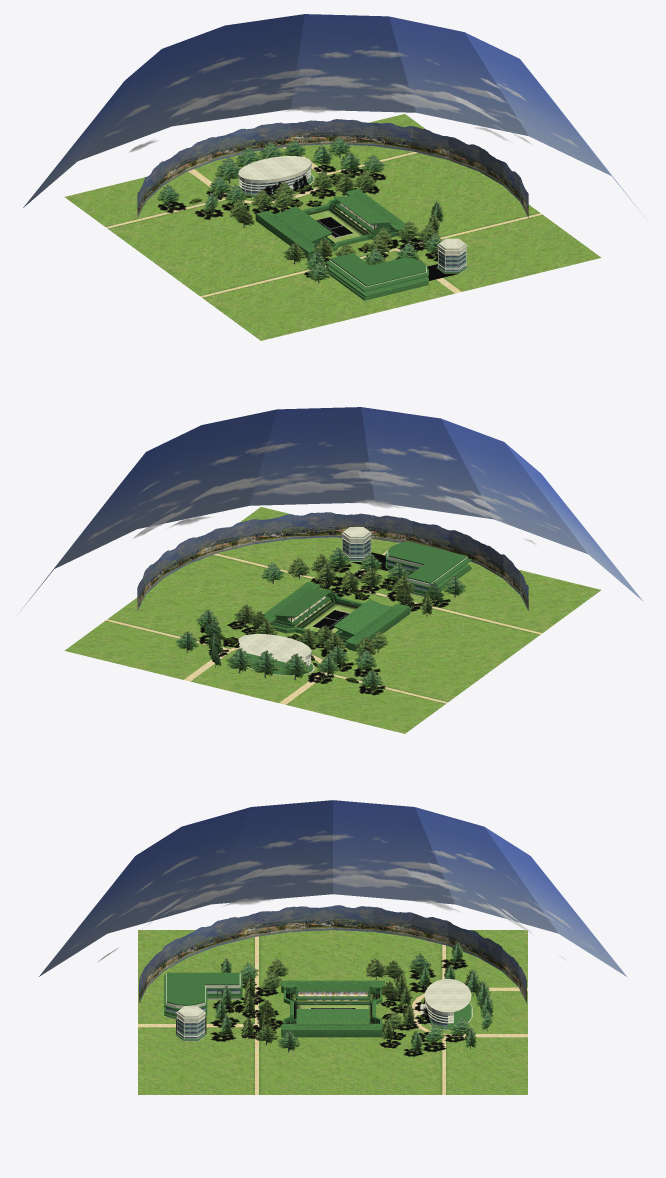
Rendered from tns_Field_a.glb.
The picture shows the model from 3 angles, top to bottom: view 1: azimuth 30°, elevation 25°; view 2: azimuth 150°, elevation 25°; view 3: azimuth 270°, elevation 25°; orthographic projection.
Visible parts, largest first — view 1: polygon7, polygon5, polygon0, polygon10, polygon355, polygon353, polygon3, polygon4, polygon38, polygon9, polygon6, polygon12; view 2: polygon7, polygon5, polygon0, polygon10, polygon355, polygon353, polygon3, polygon4, polygon38, polygon9, polygon6, polygon12; view 3: polygon7, polygon5, polygon0, polygon10, polygon3, polygon355, polygon353, polygon38, polygon4, polygon9, polygon6, polygon12.
Boxes of the visible parts, x1,y1,x2,y2 form: polygon7: (65, 114, 601, 340); polygon5: (23, 14, 646, 219); polygon0: (137, 119, 528, 217); polygon10: (238, 175, 467, 300); polygon355: (157, 136, 443, 283); polygon353: (229, 171, 440, 263); polygon3: (129, 76, 532, 151); polygon4: (63, 46, 578, 172); polygon38: (157, 164, 458, 280); polygon9: (238, 156, 467, 287); polygon6: (106, 147, 542, 297); polygon12: (242, 171, 465, 279); polygon7: (64, 507, 600, 733); polygon5: (19, 407, 642, 612); polygon0: (137, 512, 528, 610); polygon10: (244, 541, 471, 675); polygon355: (176, 547, 465, 690); polygon353: (234, 554, 432, 656); polygon3: (133, 470, 536, 544); polygon4: (87, 441, 602, 565); polygon38: (199, 552, 450, 695); polygon9: (238, 527, 467, 675); polygon6: (106, 542, 542, 704); polygon12: (299, 539, 427, 668); polygon7: (138, 930, 527, 1094); polygon5: (39, 800, 626, 976); polygon0: (139, 905, 526, 1003); polygon10: (164, 972, 471, 1040); polygon3: (98, 863, 567, 961); polygon355: (215, 941, 493, 1052); polygon353: (242, 958, 414, 1044); polygon38: (176, 958, 467, 1056); polygon4: (70, 830, 595, 950); polygon9: (166, 973, 472, 1041); polygon6: (138, 936, 527, 1094); polygon12: (166, 989, 447, 1039).
Size of the model in its own units: 3271 by 963 by 3271.
19 materials, 19 textured.
